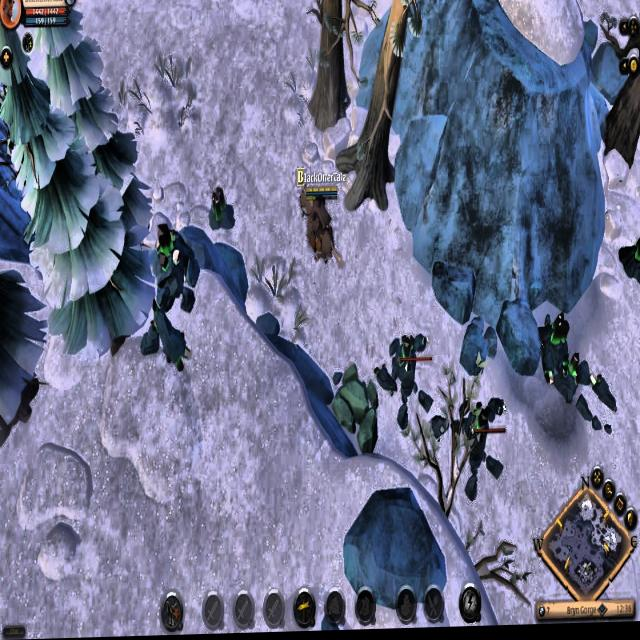sandstone: (328, 357, 379, 456)
tinore: (542, 301, 586, 407), (208, 182, 236, 235), (622, 232, 638, 289)
